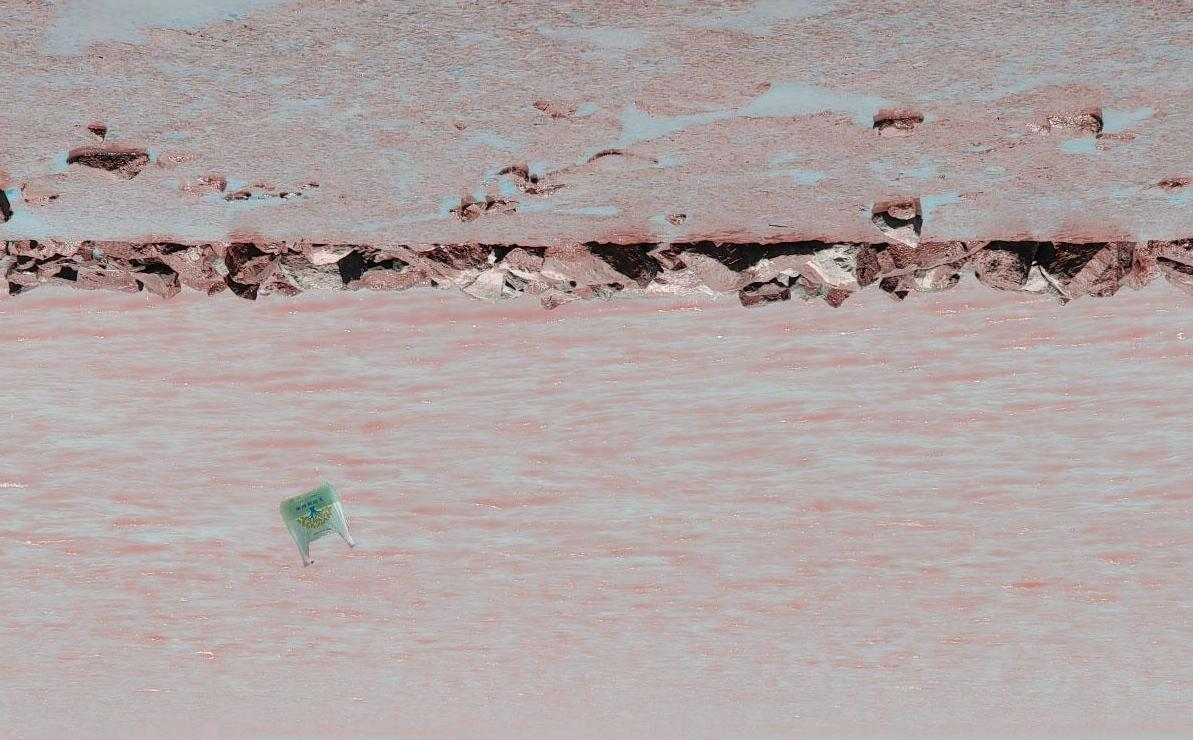Trash: (278, 481, 355, 574)
